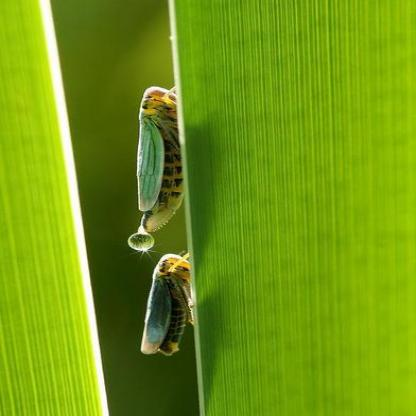Green-Leafhopper: (126, 82, 197, 252), (136, 255, 205, 361)
